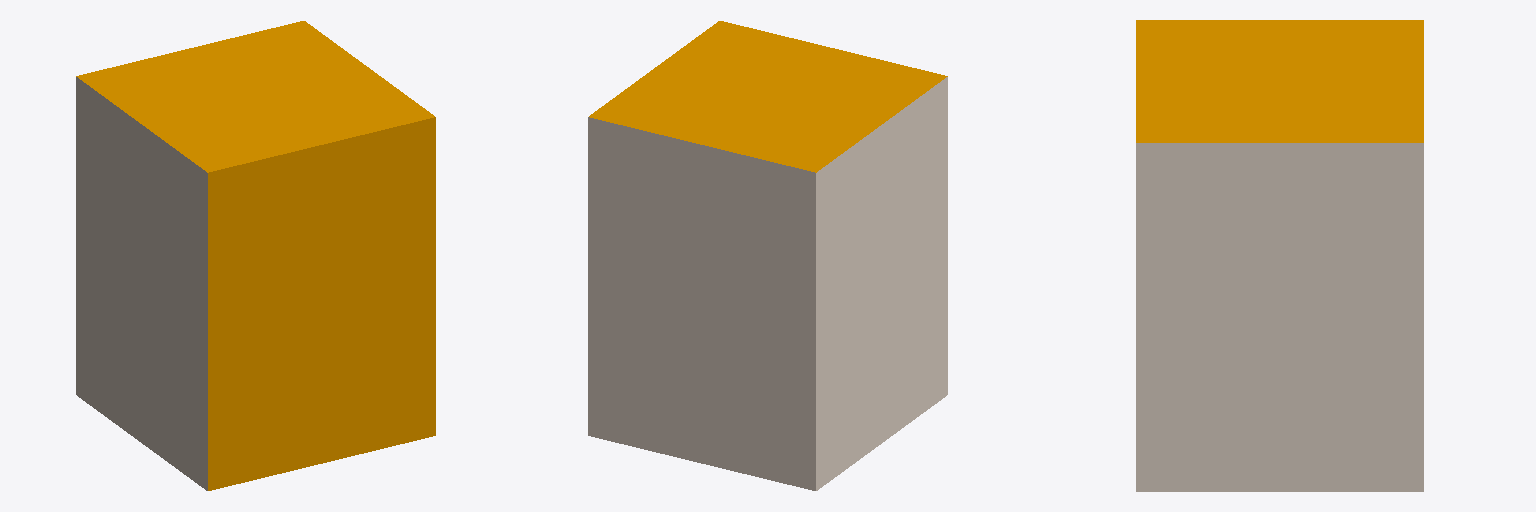
The robot description file, URDF, robot "pawnW5":
<?xml version='1.0' encoding='UTF-8'?>

<robot name="pawnW5">

    <link name="base">
        <visual>
            <origin xyz="0 0 0" rpy="0 0 0" />
            <geometry>
                <mesh filename="meshes/pawnW5.dae" scale="1.0 1.0 1.0"/>
            </geometry>
        </visual>
        <collision>
            <origin xyz="0 0 0" rpy="0 0 0" />
            <geometry>
                <box size="0.03 0.03 0.04" />
            </geometry>
        </collision>
    </link>

</robot>

--- Render facts (derived) ---
The picture shows the robot from 3 angles, left to right: view 1: azimuth 30°, elevation 25°; view 2: azimuth 150°, elevation 25°; view 3: azimuth 270°, elevation 25°; orthographic projection.
Model pawnW5 with 1 links and 0 joints (none), rooted at base, posed every joint at zero.
Visible links, largest first — view 1: base; view 2: base; view 3: base.
Link boxes in pixels (bbox=[...]): base: bbox=[76, 21, 435, 490]; base: bbox=[588, 21, 947, 490]; base: bbox=[1136, 20, 1423, 491].
Size in the robot's own frame: 0.03 by 0.03 by 0.04 metres.
1 mesh visuals loaded from 1 distinct referenced files (1 Collada DAE).
